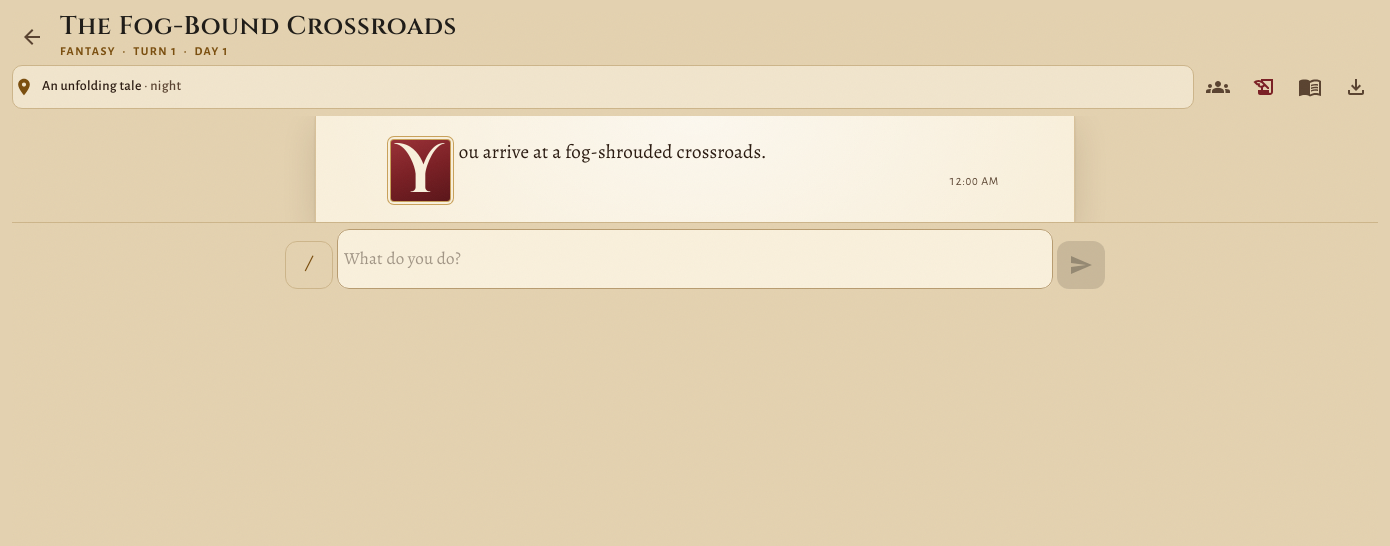
it: StoryPlay commands menu › writes the picked command into the composer without sending it
The image size is (1390, 546).
Type "Mira" into the text box with placeholder "What do you do?" at [695, 259], box [344,234,1046,284]
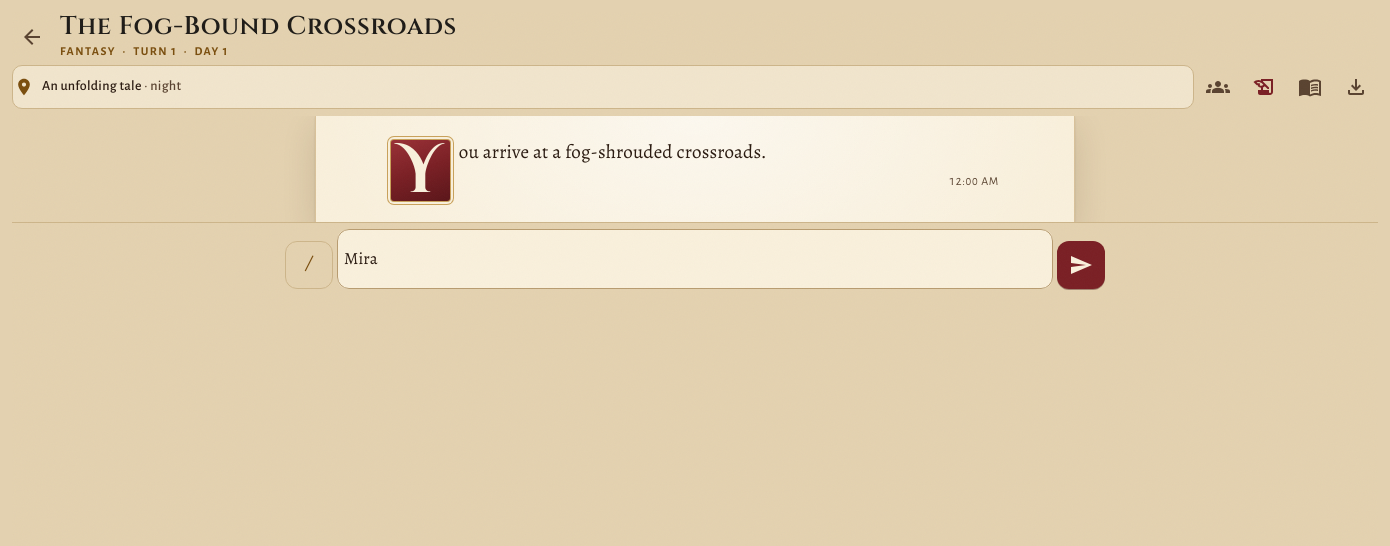
Click the button named "Commands" at [309, 265], box [285,241,333,289]
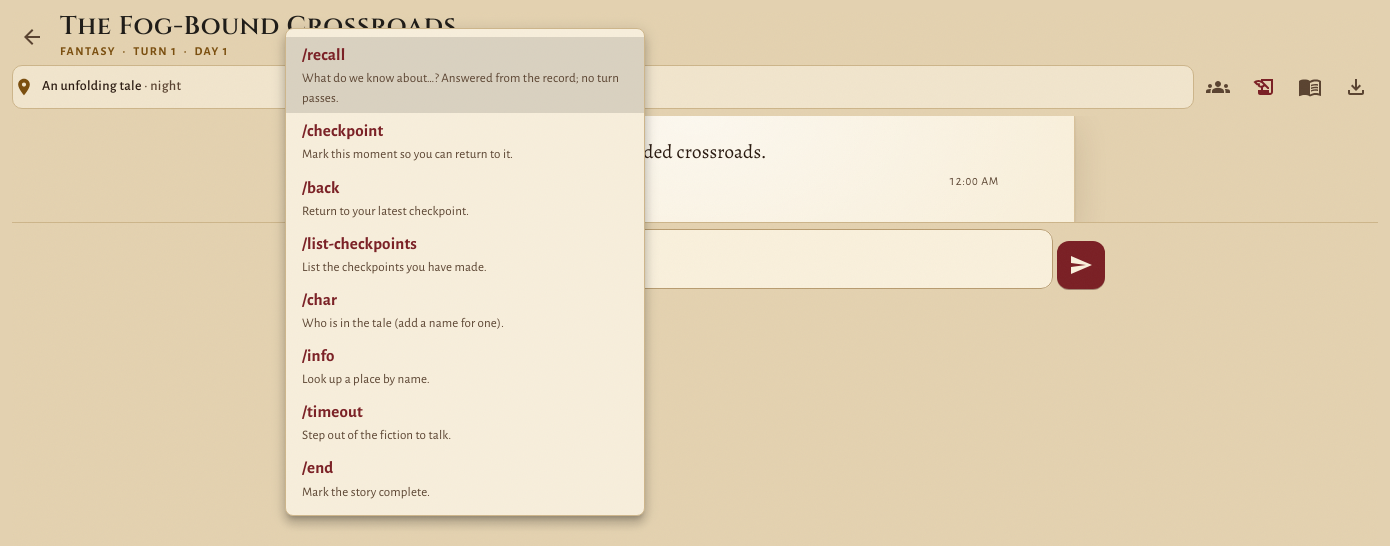
Click the menu item "/recall" at [465, 75], box [286,37,644,113]
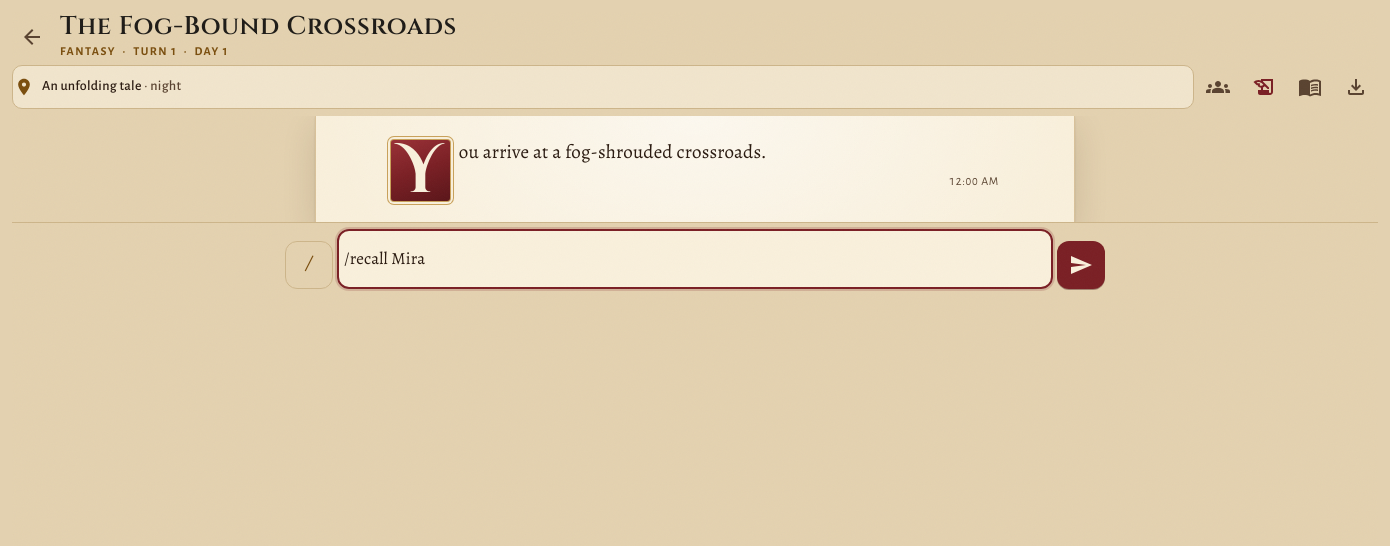
Expected: the text box with placeholder "What do you do?" holds "/recall Mira", [344,234,1046,284]
